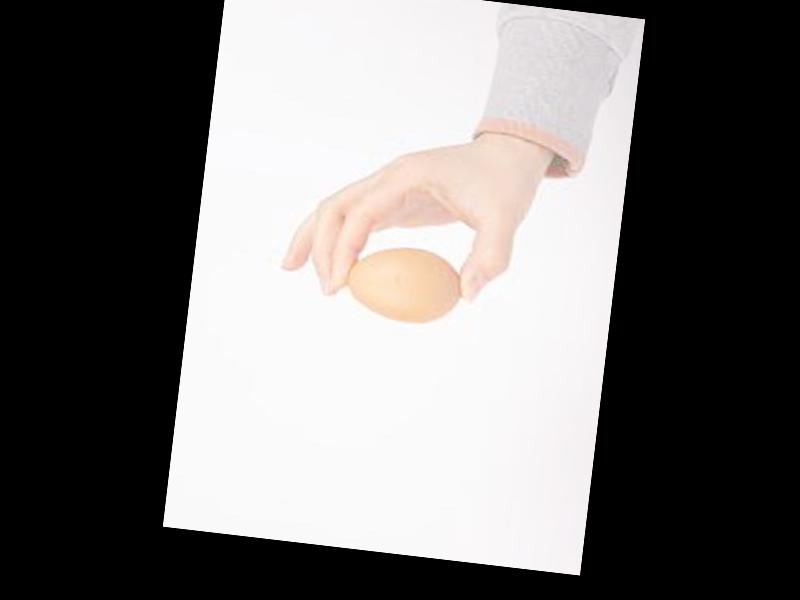Eggs: (341, 243, 462, 327)
